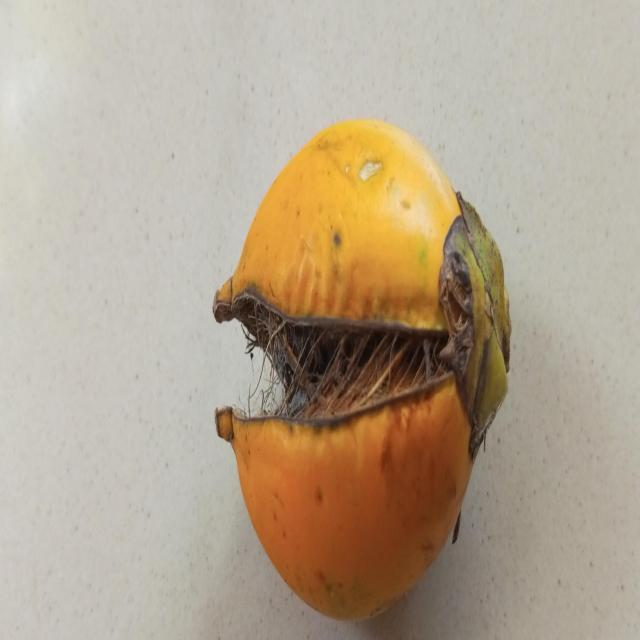damaged: (213, 120, 511, 620)
